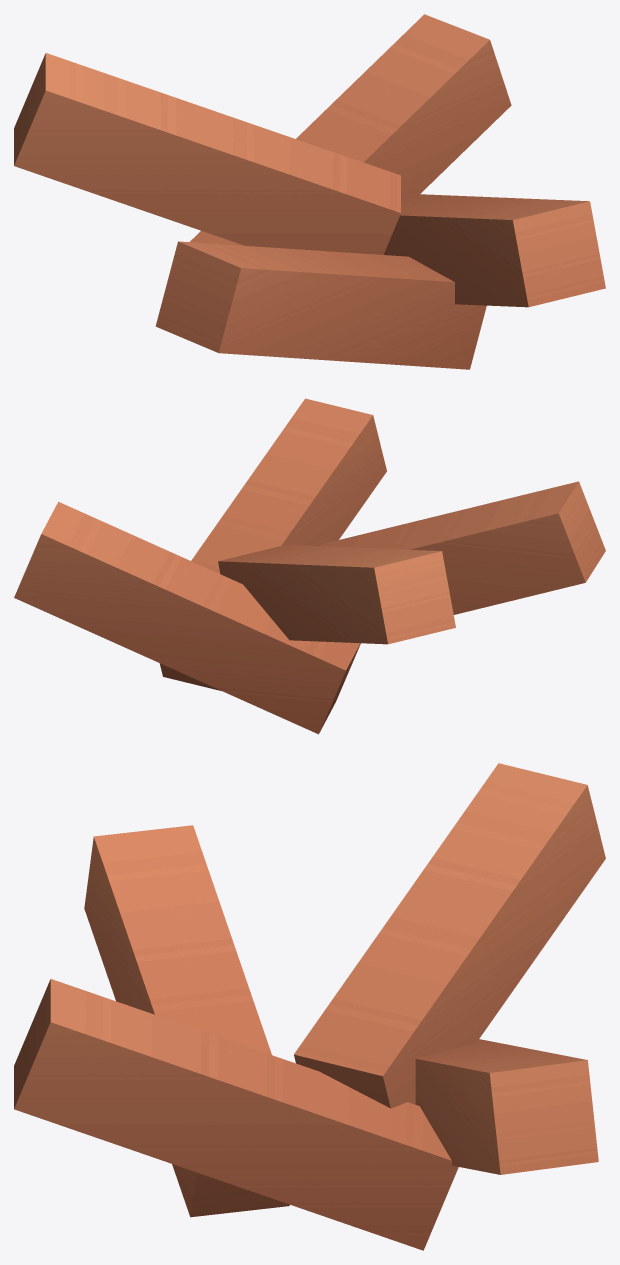
Rendered from wood_lev3.glb.
3 renders of one model, top to bottom at view 1: azimuth 30°, elevation 25°; view 2: azimuth 150°, elevation 25°; view 3: azimuth 270°, elevation 25°, orthographic. The views are drawn at different scales.
Visible parts, largest first — view 1: wood_lev3; view 2: wood_lev3; view 3: wood_lev3.
Part boxes in pixels (x1,y1,x2,y2): wood_lev3: (14, 14, 605, 369); wood_lev3: (14, 398, 605, 734); wood_lev3: (14, 763, 605, 1250).
Size of the model in its own units: 1.64 by 0.8022 by 1.48.
1 material, 1 textured.
